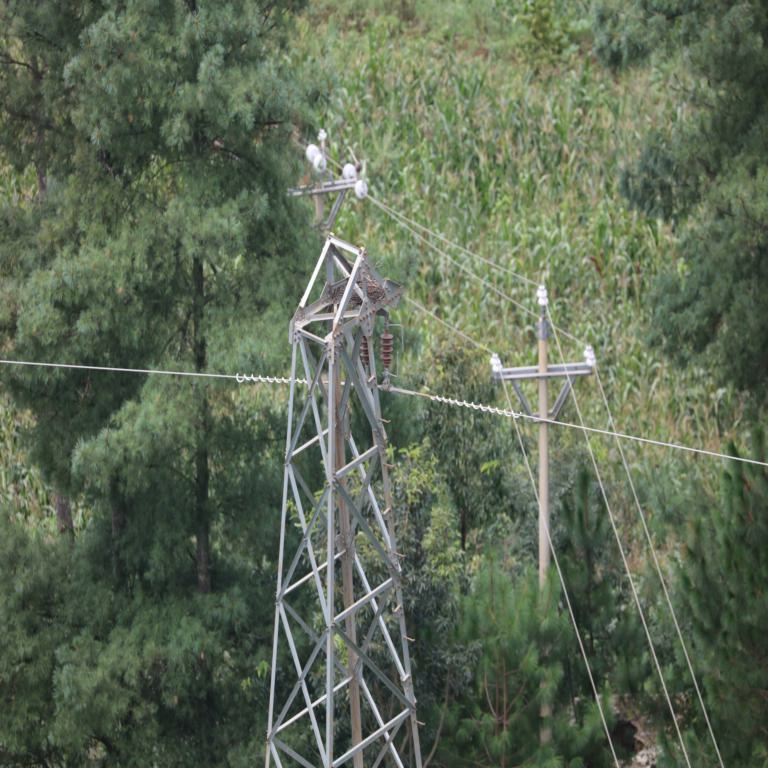nest: (348, 279, 383, 304)
